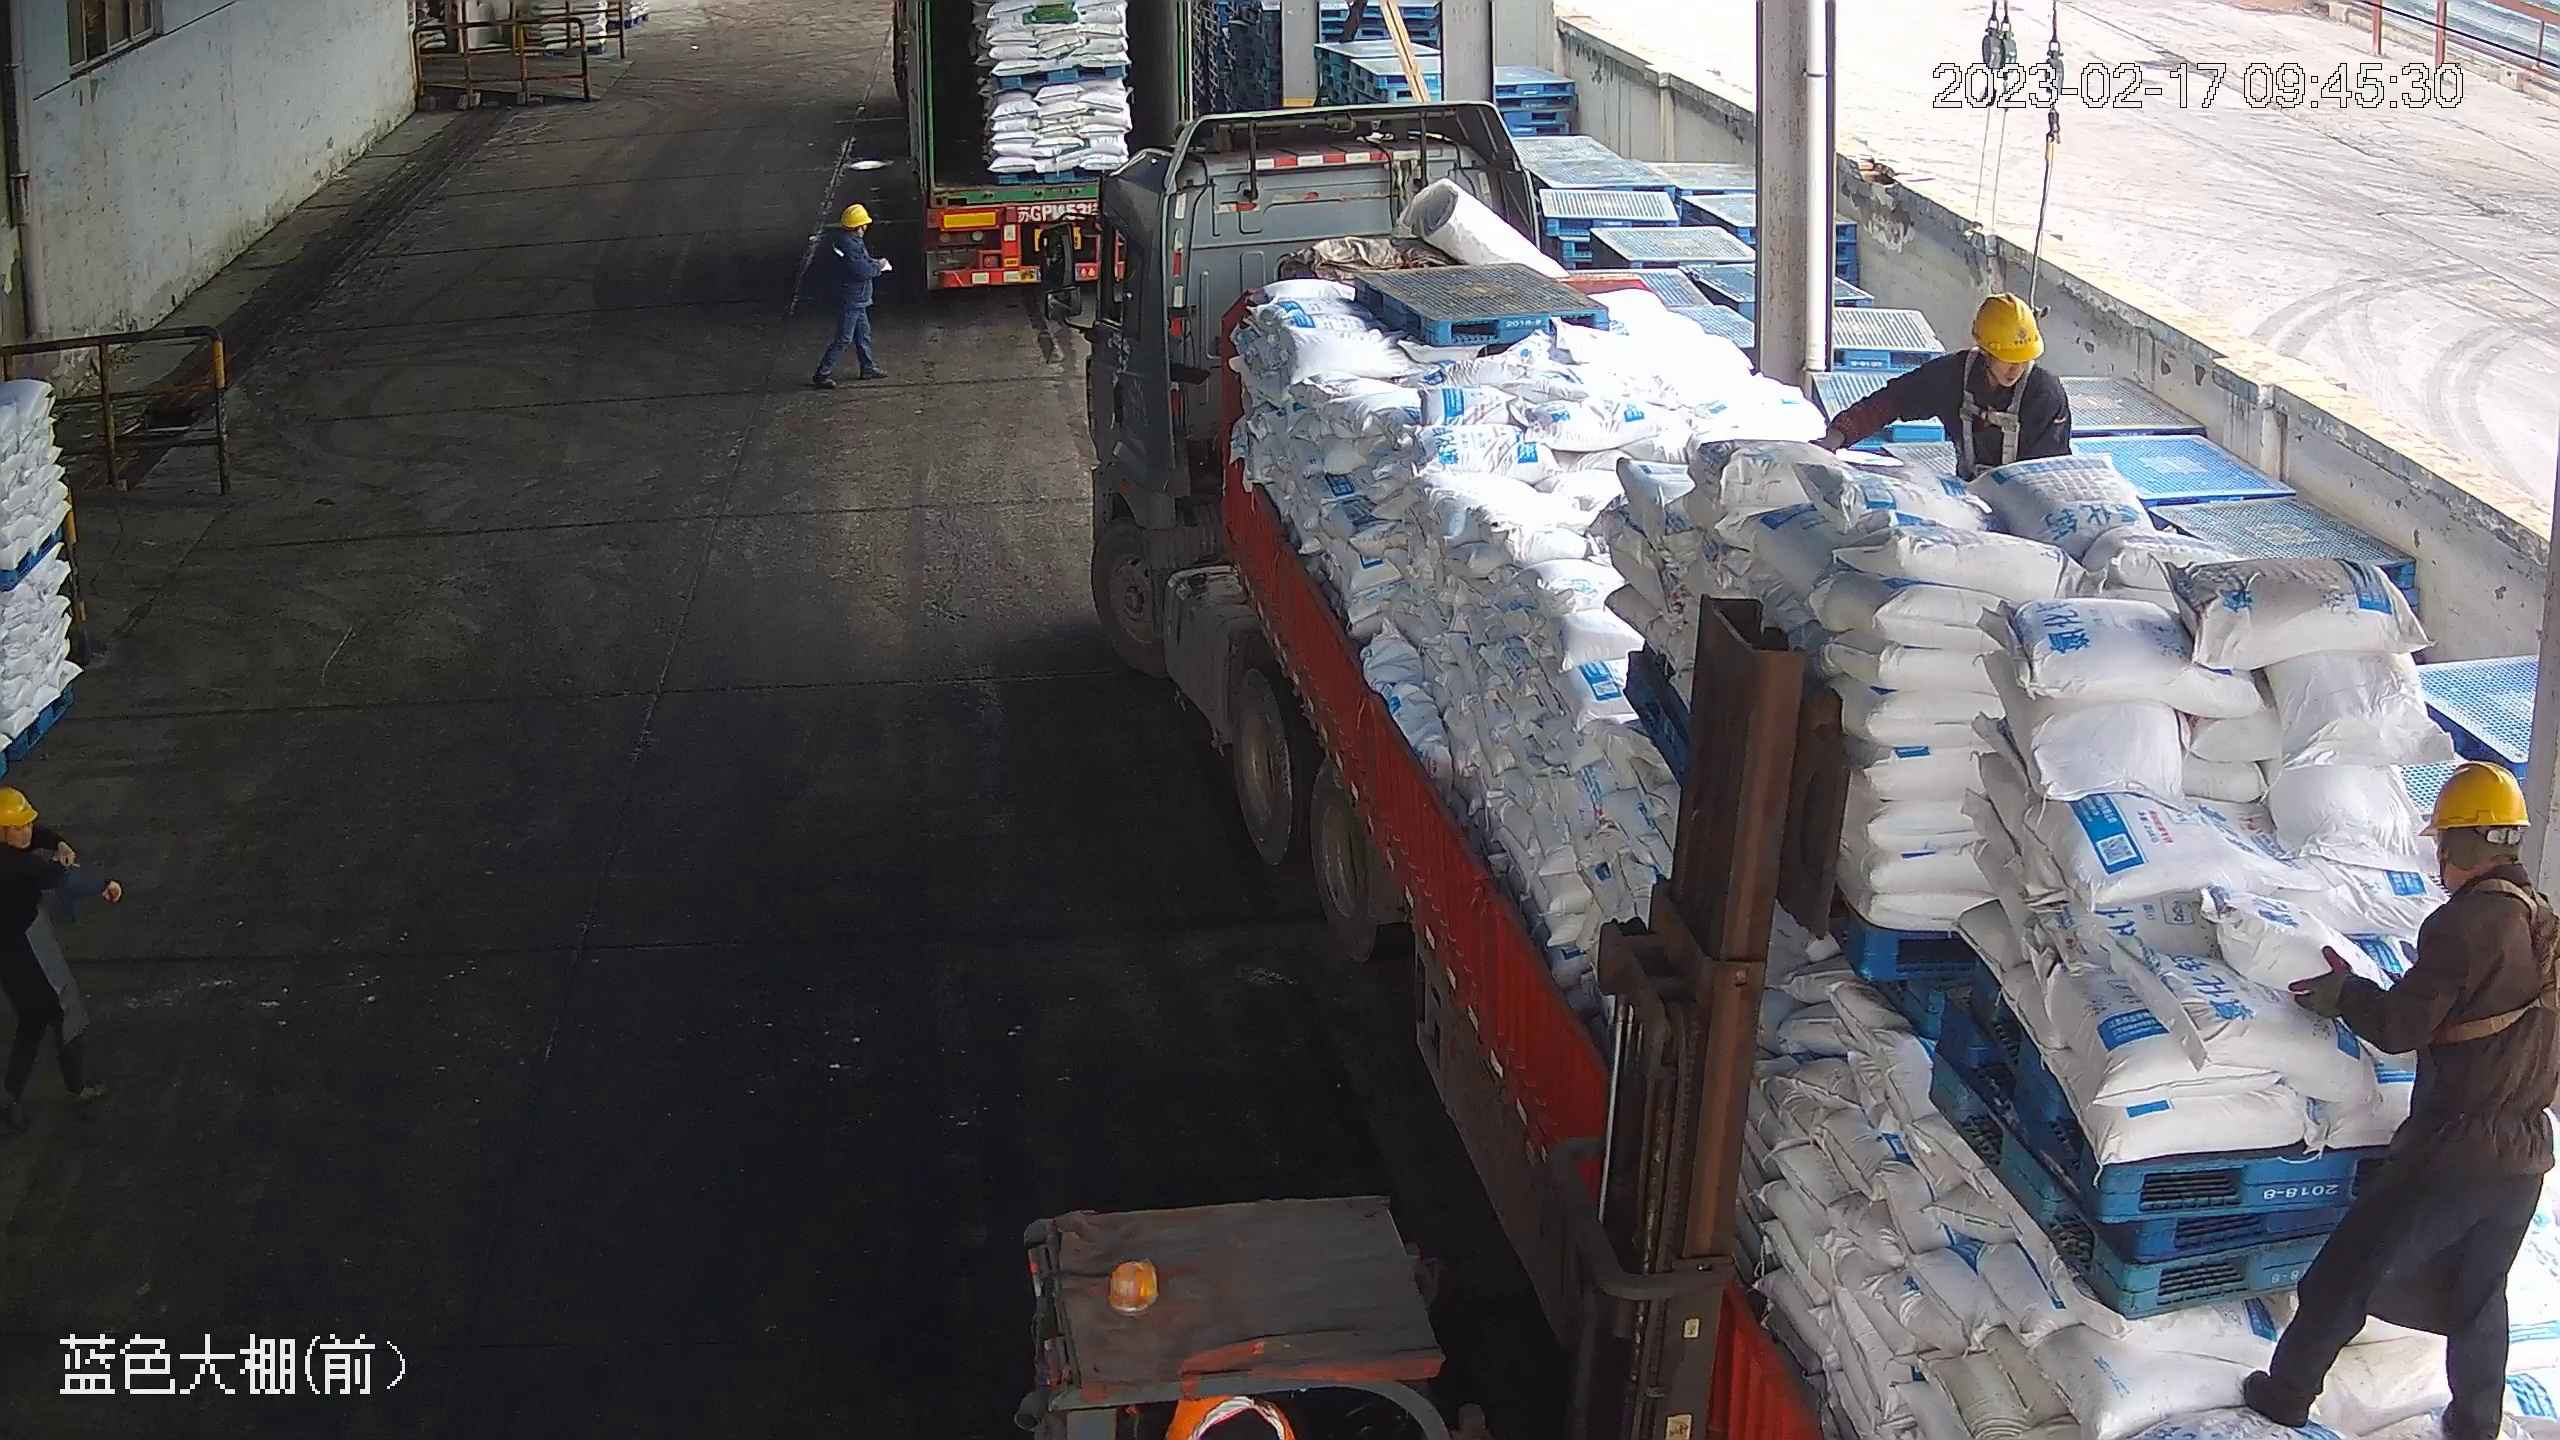belt: (2438, 873, 2560, 1041), (1958, 358, 2035, 470)
head: (2385, 755, 2558, 969), (1908, 286, 2069, 413), (1, 787, 70, 902), (818, 203, 878, 263)
helmet: (2417, 754, 2530, 838), (1967, 288, 2044, 366), (1, 785, 39, 828), (837, 201, 873, 229)
people: (2240, 756, 2558, 1436), (811, 199, 889, 390)
truck: (1057, 142, 2555, 1440), (899, 1, 1201, 301)
